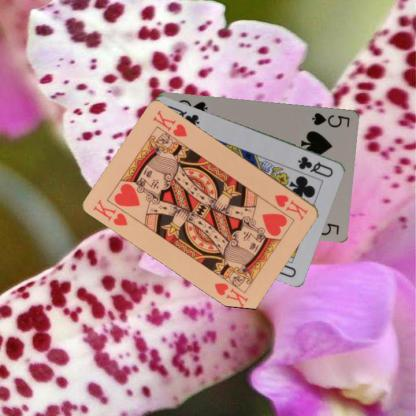5s: (310, 110, 351, 129)
Kh: (91, 196, 129, 227), (272, 192, 310, 222)
Qc: (295, 153, 335, 179)
